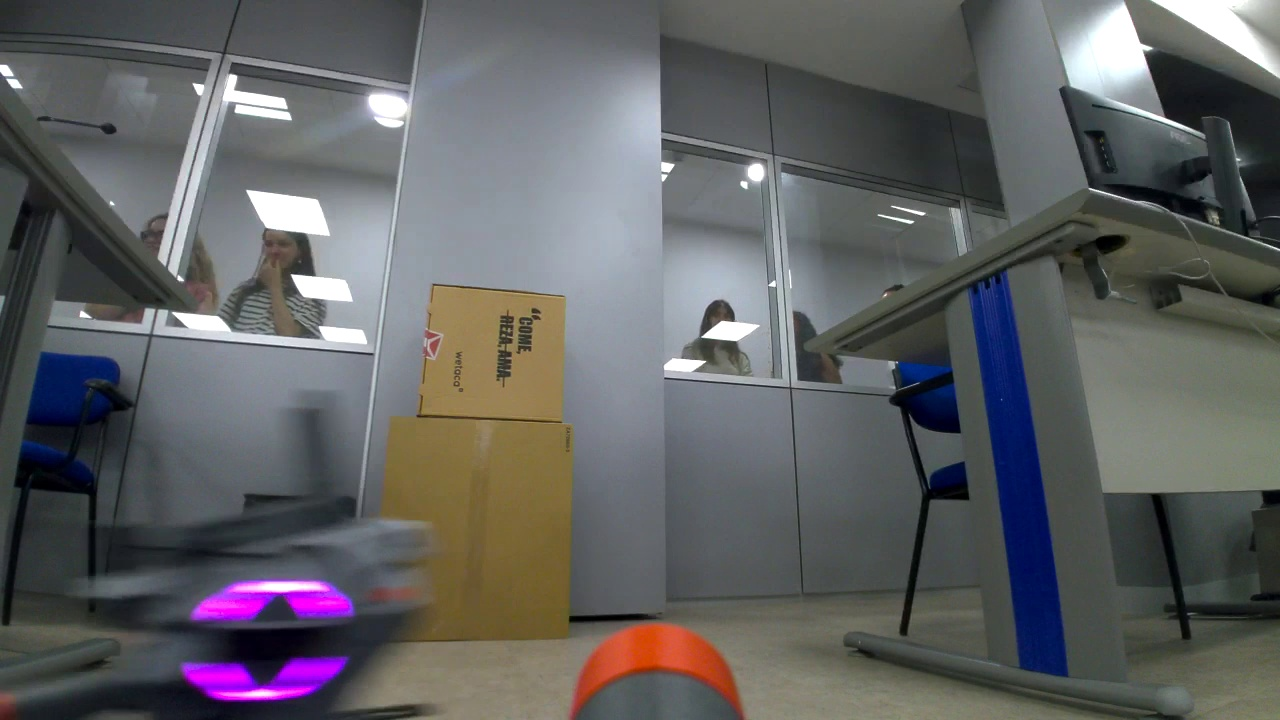robot: (12, 487, 440, 716)
